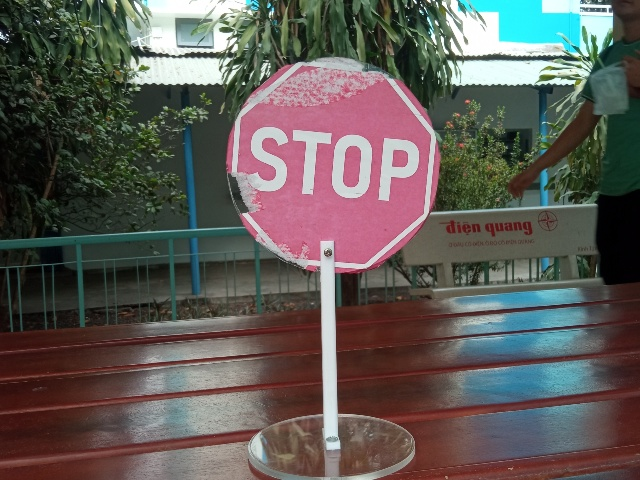Stop_Sign: (225, 56, 440, 275)
